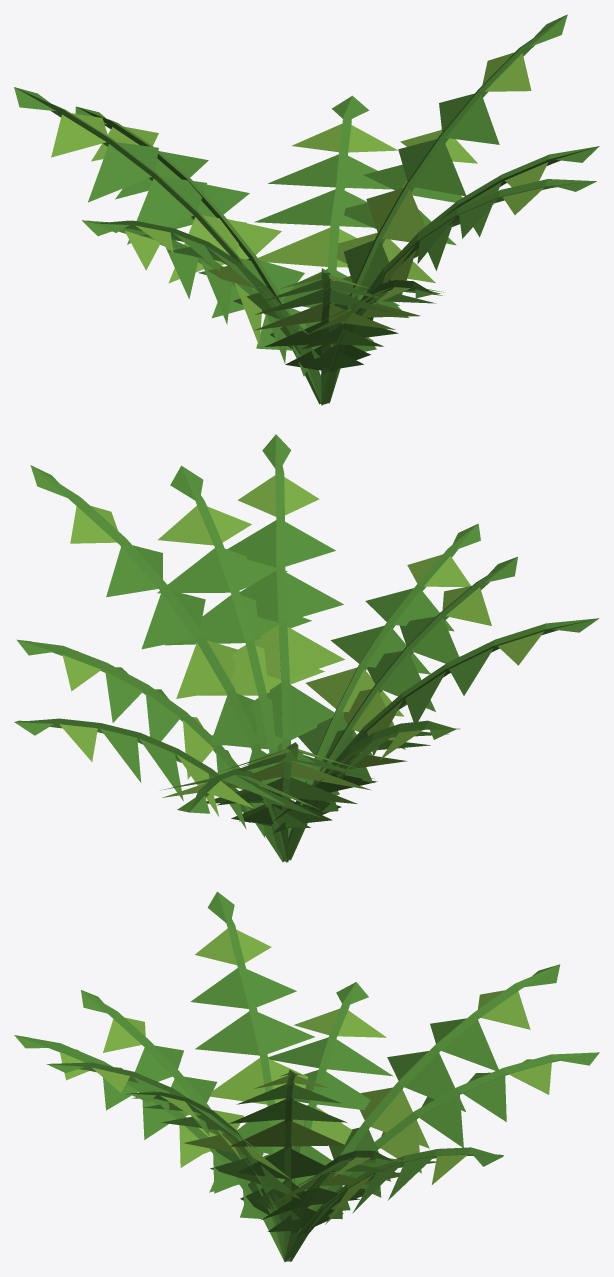
Rendered from F13_FernClump.glb.
3 views of the same model, one above another, from view 1: azimuth 30°, elevation 25°; view 2: azimuth 150°, elevation 25°; view 3: azimuth 270°, elevation 25° (orthographic). The views are drawn at different scales.
Visible parts, largest first — view 1: F13_FernClump; view 2: F13_FernClump; view 3: F13_FernClump.
Part boxes in pixels (x1=…): F13_FernClump: x1=14, y1=14, x2=599, y2=405; F13_FernClump: x1=14, y1=434, x2=599, y2=862; F13_FernClump: x1=14, y1=891, x2=599, y2=1262.
Size of the model in its own units: 1.25 by 0.7636 by 1.35.
